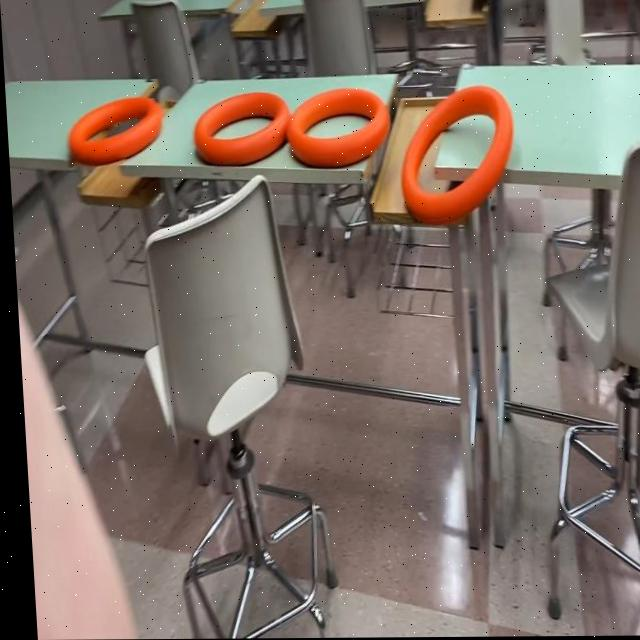note: (395, 82, 518, 229), (282, 87, 392, 170), (190, 91, 293, 169), (64, 95, 163, 168)
